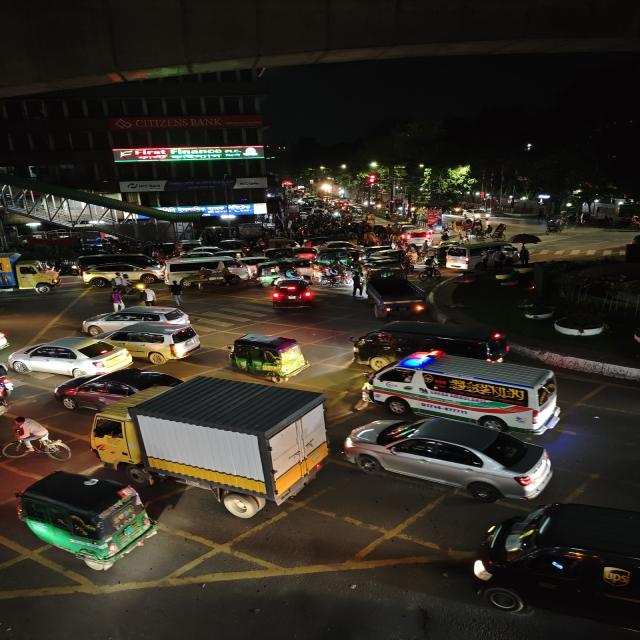bicycle: (8, 415, 70, 463)
car: (462, 496, 640, 638), (346, 413, 557, 502), (357, 352, 567, 432), (349, 317, 498, 374), (54, 368, 175, 412), (8, 336, 133, 376), (92, 322, 204, 363), (77, 308, 201, 336), (79, 254, 166, 284), (268, 278, 319, 312), (444, 244, 478, 271), (404, 228, 429, 244)
cng: (12, 470, 162, 572), (227, 331, 313, 380), (252, 262, 285, 286), (319, 248, 349, 264)
motorcycle: (0, 357, 15, 419), (106, 272, 136, 298), (314, 263, 344, 287)
pedestrian: (104, 282, 140, 312), (164, 278, 188, 307)
pickup_van: (362, 266, 433, 318)
rickshaw: (436, 232, 457, 246)
truck: (125, 372, 338, 522), (1, 252, 62, 299)
